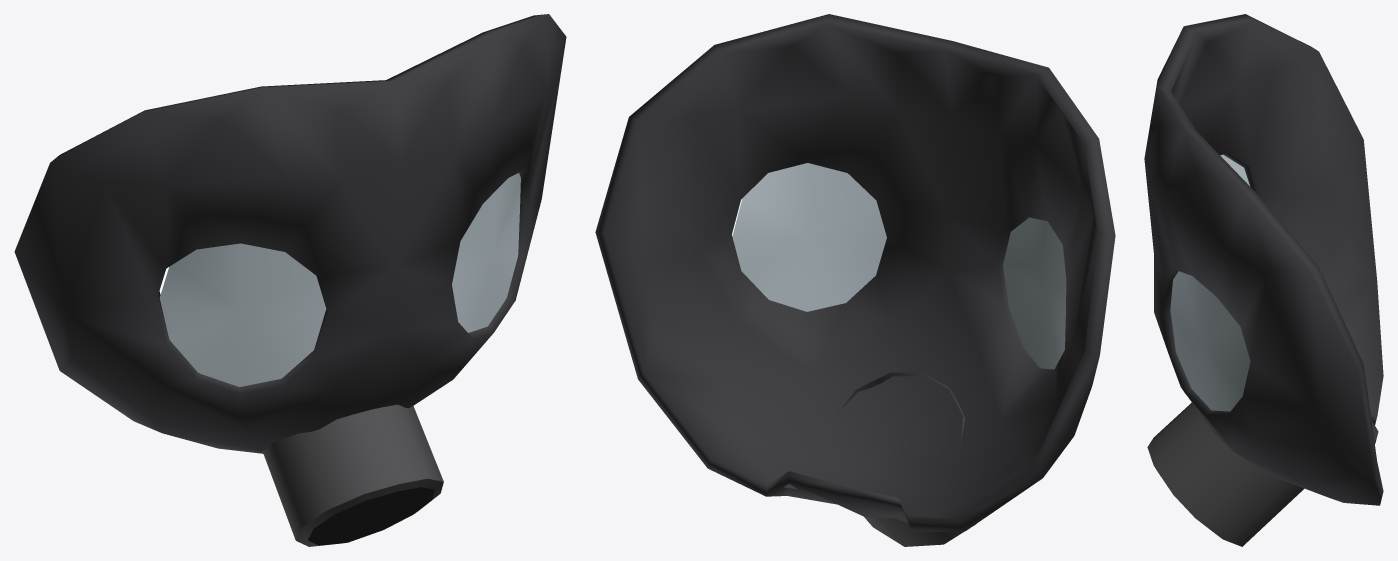
File: gasMask.glb
The picture shows the model from 3 angles, left to right: view 1: azimuth 30°, elevation 25°; view 2: azimuth 150°, elevation 25°; view 3: azimuth 270°, elevation 25°; orthographic projection. The views are drawn at different scales.
Parts seen in each view (by area): view 1: GasMask; view 2: GasMask; view 3: GasMask.
Boxes of the visible parts, x1,y1,x2,y2 form: GasMask: [14, 14, 566, 546]; GasMask: [595, 14, 1115, 546]; GasMask: [1144, 14, 1383, 546].
Size of the model in its own units: 8.72 by 7.94 by 3.74.
2 materials, 1 textured.
